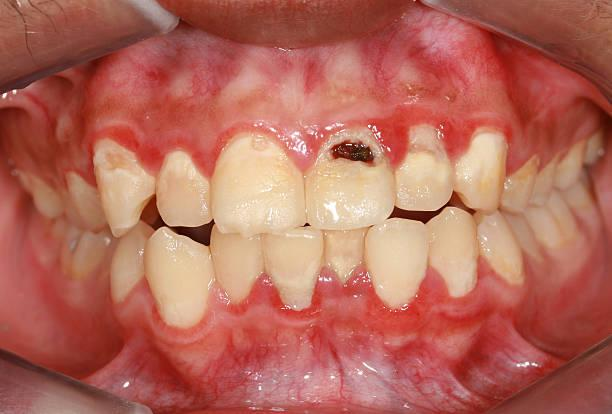Caries: (318, 126, 394, 172)
